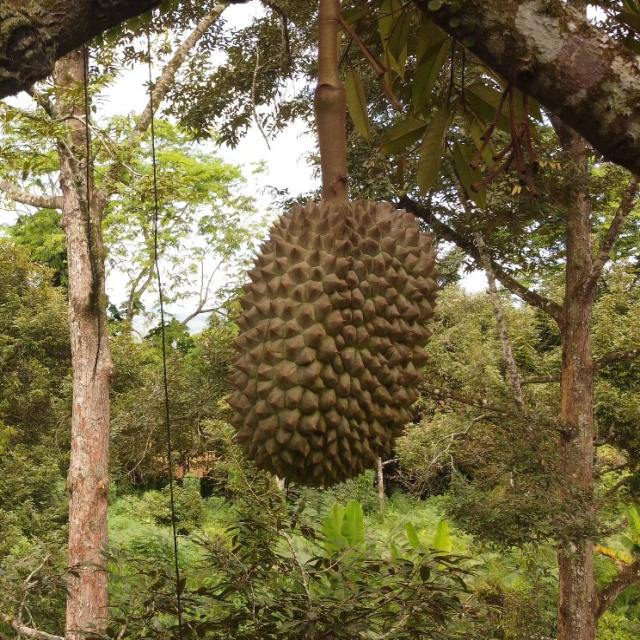mature: (226, 194, 442, 489)
